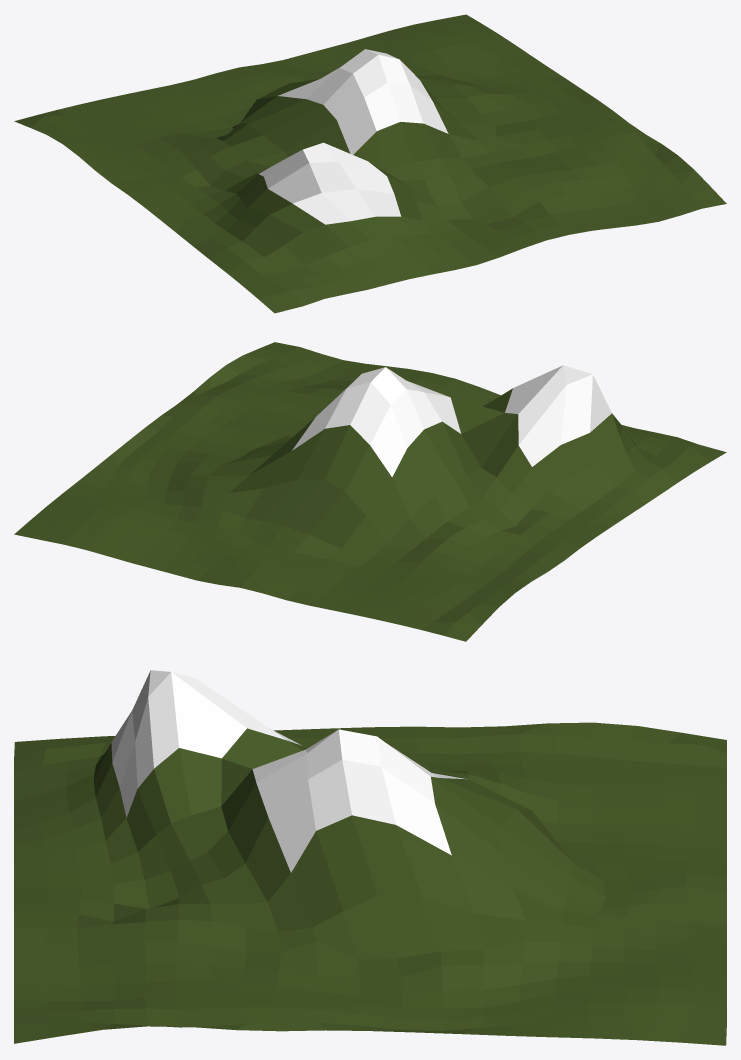
The model's file is Mountain_4.fbx.
3 views of the same model, one above another, from view 1: azimuth 30°, elevation 25°; view 2: azimuth 150°, elevation 25°; view 3: azimuth 270°, elevation 25° (orthographic). The views are drawn at different scales.
Parts seen in each view (by area): view 1: Mountain_4; view 2: Mountain_4; view 3: Mountain_4.
Boxes of the visible parts, bbox=[...] form: Mountain_4: bbox=[14, 14, 726, 313]; Mountain_4: bbox=[14, 342, 726, 641]; Mountain_4: bbox=[14, 670, 726, 1045].
Bounding box in the file's own units: 2500 × 638 × 2500.
